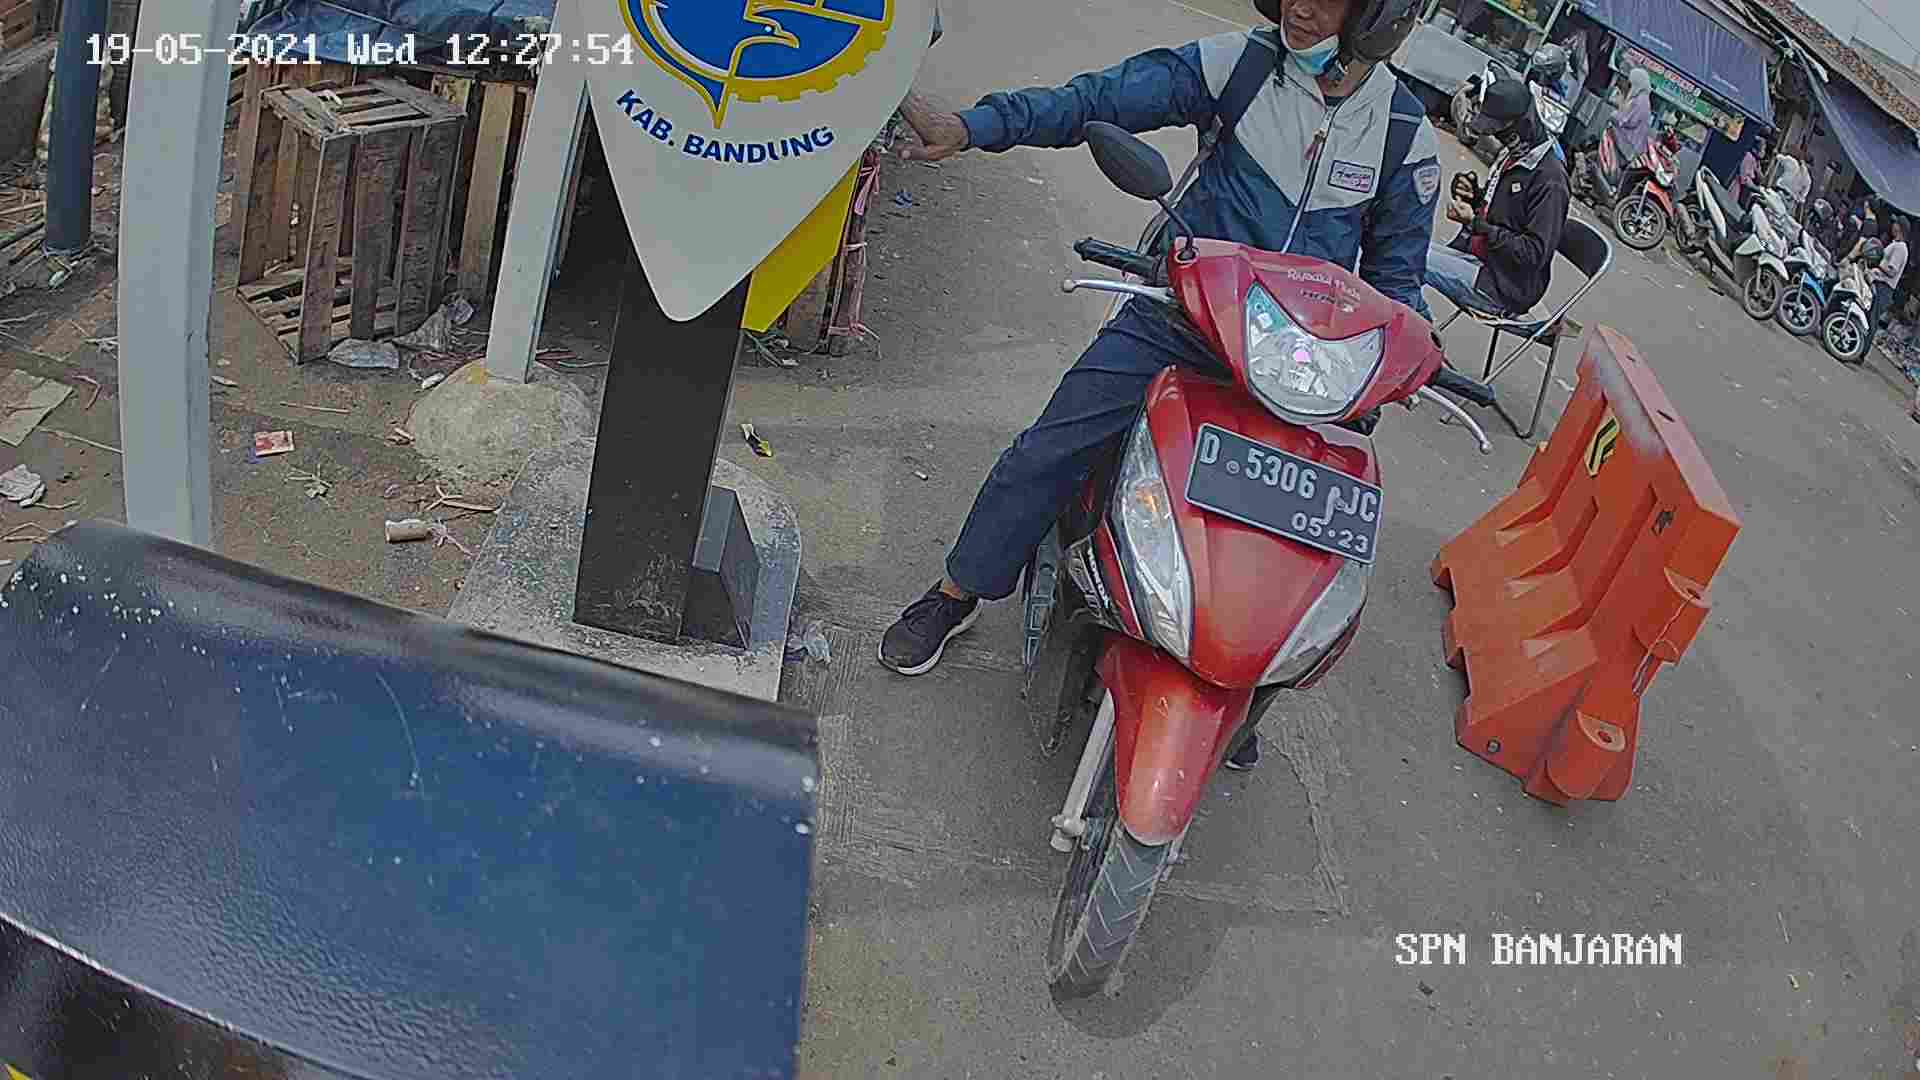motor: (1014, 249, 1396, 1019)
